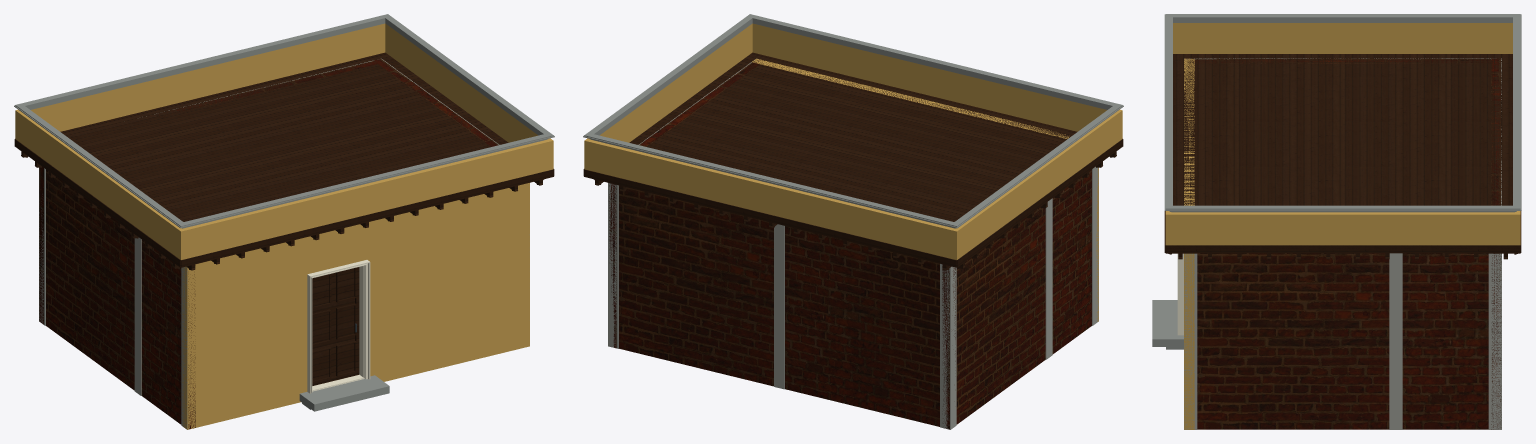
Rendered from building.glb.
The picture shows the model from 3 angles, left to right: view 1: azimuth 30°, elevation 25°; view 2: azimuth 150°, elevation 25°; view 3: azimuth 270°, elevation 25°; orthographic projection. The views are drawn at different scales.
Visible parts, largest first — view 1: house:0/edge0/z0/house:0/edge0/z0/wall_0_0, roof_assembly/cubierta/roof_substrate#0001, roof_assembly/cubierta/roof_parapet#0001, house:0/edge3/z0/house:0/edge3/z0/wall_0_0, roof_assembly/cubierta/roof_parapet_cap#0001, roof_assembly/cubierta/roof_fascia#0002, site/entrance/0/entrance_step#0002, house:0/edge2/z0/house:0/edge2/z0/wall_0_0, roof_assembly/cubierta/roof_fascia#0001, house:0/edge3/z0/house:0/edge3/z0/column_2_0, house:0/edge1/z0/house:0/edge1/z0/wall_0_0, house:0/edge0/z0/opening_u2.80_v0.12/door_panel_back#0001 (+9 smaller); view 2: house:0/edge2/z0/house:0/edge2/z0/wall_0_0, roof_assembly/cubierta/roof_substrate#0001, roof_assembly/cubierta/roof_parapet#0001, house:0/edge3/z0/house:0/edge3/z0/wall_0_0, roof_assembly/cubierta/roof_parapet_cap#0001, roof_assembly/cubierta/roof_fascia#0004, house:0/edge0/z0/house:0/edge0/z0/wall_0_0, house:0/edge1/z0/house:0/edge1/z0/wall_0_0, house:0/edge2/z0/house:0/edge2/z0/column_2_0, house:0/edge2/z0/house:0/edge2/z0/column_0_0, house:0/edge2/z0/house:0/edge2/z0/column_1_0, roof_assembly/cubierta/roof_fascia#0001 (+3 smaller); view 3: roof_assembly/cubierta/roof_substrate#0001, house:0/edge1/z0/house:0/edge1/z0/wall_0_0, roof_assembly/cubierta/roof_parapet#0001, roof_assembly/cubierta/roof_parapet_cap#0001, roof_assembly/cubierta/roof_fascia#0003, house:0/edge0/z0/house:0/edge0/z0/wall_0_0, house:0/edge1/z0/house:0/edge1/z0/column_2_0, house:0/edge1/z0/house:0/edge1/z0/column_1_0, house:0/edge2/z0/house:0/edge2/z0/wall_0_0, house:0/edge1/z0/house:0/edge1/z0/column_0_0, site/entrance/0/entrance_step#0002, house:0/edge3/z0/house:0/edge3/z0/wall_0_0 (+1 smaller).
Boxes of the visible parts, bbox=[...] form: house:0/edge0/z0/house:0/edge0/z0/wall_0_0: bbox=[182, 183, 529, 429]; roof_assembly/cubierta/roof_substrate#0001: bbox=[60, 52, 508, 221]; roof_assembly/cubierta/roof_parapet#0001: bbox=[15, 23, 553, 259]; house:0/edge3/z0/house:0/edge3/z0/wall_0_0: bbox=[46, 169, 195, 429]; roof_assembly/cubierta/roof_parapet_cap#0001: bbox=[14, 14, 554, 228]; roof_assembly/cubierta/roof_fascia#0002: bbox=[181, 169, 553, 267]; site/entrance/0/entrance_step#0002: bbox=[299, 375, 389, 411]; house:0/edge2/z0/house:0/edge2/z0/wall_0_0: bbox=[39, 60, 384, 324]; roof_assembly/cubierta/roof_fascia#0001: bbox=[14, 139, 180, 267]; house:0/edge3/z0/house:0/edge3/z0/column_2_0: bbox=[134, 237, 141, 395]; house:0/edge1/z0/house:0/edge1/z0/wall_0_0: bbox=[374, 59, 498, 146]; house:0/edge0/z0/opening_u2.80_v0.12/door_panel_back#0001: bbox=[312, 272, 354, 376]; house:0/edge2/z0/house:0/edge2/z0/wall_0_0: bbox=[619, 185, 955, 426]; roof_assembly/cubierta/roof_substrate#0001: bbox=[629, 52, 1077, 221]; roof_assembly/cubierta/roof_parapet#0001: bbox=[584, 23, 1122, 259]; house:0/edge3/z0/house:0/edge3/z0/wall_0_0: bbox=[942, 169, 1091, 429]; roof_assembly/cubierta/roof_parapet_cap#0001: bbox=[583, 14, 1123, 228]; roof_assembly/cubierta/roof_fascia#0004: bbox=[584, 169, 956, 267]; house:0/edge0/z0/house:0/edge0/z0/wall_0_0: bbox=[752, 58, 1098, 321]; house:0/edge1/z0/house:0/edge1/z0/wall_0_0: bbox=[609, 60, 764, 348]; house:0/edge2/z0/house:0/edge2/z0/column_2_0: bbox=[774, 224, 784, 389]; house:0/edge2/z0/house:0/edge2/z0/column_0_0: bbox=[608, 183, 618, 348]; house:0/edge2/z0/house:0/edge2/z0/column_1_0: bbox=[940, 264, 950, 429]; roof_assembly/cubierta/roof_fascia#0001: bbox=[957, 139, 1123, 267]; roof_assembly/cubierta/roof_substrate#0001: bbox=[1173, 54, 1512, 205]; house:0/edge1/z0/house:0/edge1/z0/wall_0_0: bbox=[1197, 253, 1488, 429]; roof_assembly/cubierta/roof_parapet#0001: bbox=[1165, 23, 1520, 245]; roof_assembly/cubierta/roof_parapet_cap#0001: bbox=[1164, 14, 1521, 212]; roof_assembly/cubierta/roof_fascia#0003: bbox=[1165, 245, 1520, 253]; house:0/edge0/z0/house:0/edge0/z0/wall_0_0: bbox=[1184, 58, 1194, 429]; house:0/edge1/z0/house:0/edge1/z0/column_2_0: bbox=[1389, 253, 1402, 429]; house:0/edge1/z0/house:0/edge1/z0/column_1_0: bbox=[1488, 253, 1501, 429]; house:0/edge2/z0/house:0/edge2/z0/wall_0_0: bbox=[1491, 58, 1501, 429]; house:0/edge1/z0/house:0/edge1/z0/column_0_0: bbox=[1184, 253, 1197, 429]; site/entrance/0/entrance_step#0002: bbox=[1152, 300, 1183, 346]; house:0/edge3/z0/house:0/edge3/z0/wall_0_0: bbox=[1193, 59, 1491, 63].
Bounding box in the file's own units: 8.74 × 4.81 × 6.97.
Materials: 7 (2 with a texture image).
